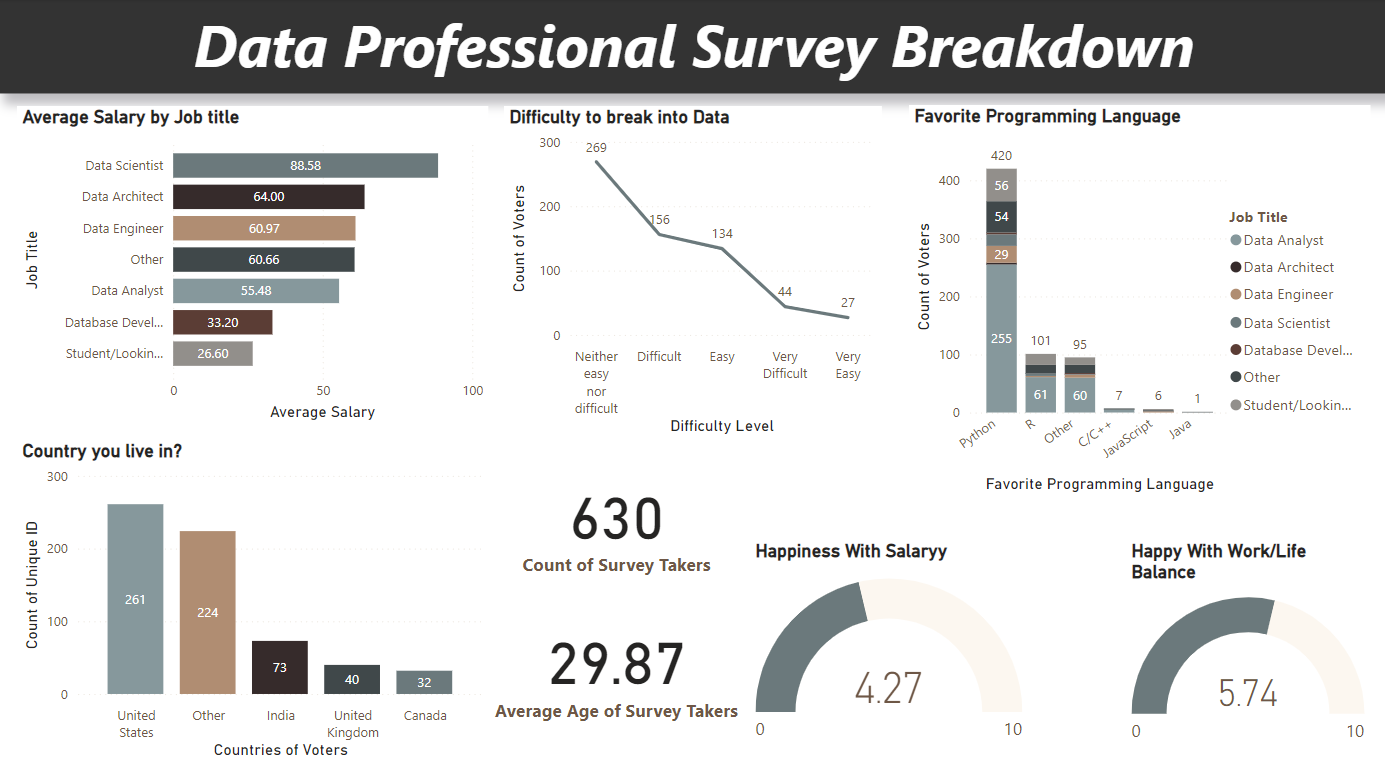

What the dashboard file says about the page in this screenshot:
{"tool":"powerbi","page":{"name":"Page 1","canvas":[1280,720],"ordinal":0},"visuals":[{"type":"textbox","box":[0,0,1280.3,86.8],"z":0},{"type":"card","fields":{"Values":["Count(Data Professional Survey.Unique ID)"]},"box":[450.3,407,236.7,149.2],"z":1000},{"type":"card","fields":{"Values":["Avg(Data Professional Survey.Q10 - Current Age)"]},"box":[450.6,542.8,236.4,147.2],"z":2000},{"type":"barChart","title":"Average Salary by Job title","fields":{"Category":["Data Professional Survey.Q1 - Which Title Best Fits your Current Role?.1"],"Y":["Avg(Data Professional Survey.Average Salary)"],"Series":["Data Professional Survey.Q1 - Which Title Best Fits your Current Role?.1"]},"box":[16.4,98.1,434.2,294.4],"z":3000},{"type":"columnChart","title":"Favorite Programming Language","fields":{"Category":["Data Professional Survey.Q5 - Favorite Programming Language.1"],"Y":["CountNonNull(Data Professional Survey.Unique ID)"],"Series":["Data Professional Survey.Q1 - Which Title Best Fits your Current Role?.1"]},"box":[837.6,97.7,425,362.2],"z":4000},{"type":"columnChart","title":"Country you live in?","fields":{"Category":["Data Professional Survey.Q11 - Which Country do you live in?.1"],"Y":["CountNonNull(Data Professional Survey.Unique ID)"],"Series":["Data Professional Survey.Q11 - Which Country do you live in?.1"]},"box":[16.4,405.9,434.2,298.9],"z":5000},{"type":"gauge","title":"Happy With Work/Life Balance","fields":{"Y":["Avg(Data Professional Survey.Q6 - How Happy are you in your Current Position with the following? (Work/Life Balance))"],"MinValue":["Min(Data Professional Survey.Q6 - How Happy are you in your Current Position with the following? (Work/Life Balance))1"],"MaxValue":["Max(Data Professional Survey.Q6 - How Happy are you in your Current Position with the following? (Work/Life Balance))2"]},"box":[1037.9,498.1,224.5,206.7],"z":6000},{"type":"gauge","title":"Happiness With Salaryy","fields":{"Y":["Avg(Data Professional Survey.Q6 - How Happy are you in your Current Position with the following? (Salary))"],"MinValue":["Min(Data Professional Survey.Q6 - How Happy are you in your Current Position with the following? (Salary))1"],"MaxValue":["Max(Data Professional Survey.Q6 - How Happy are you in your Current Position with the following? (Salary))2"]},"box":[691.5,498.1,255.8,206.7],"z":7000},{"type":"lineChart","title":"Difficulty to break into Data","fields":{"Category":["Data Professional Survey.Q7 - How difficult was it for you to break into Data?"],"Y":["CountNonNull(Data Professional Survey.Q7 - How difficult was it for you to break into Data?)"]},"box":[465.4,98.1,348,307.8],"z":7001}]}

Visuals, with their boxes in screenshot pixels (x1, y1, x2, y2), scaled from the page's 1280x720 canvas onto the 1385x779 screenshot:
textbox: box(0, 0, 1384, 94)
card - Count(Data Professional Survey.Unique ID): box(487, 440, 743, 602)
card - Avg(Data Professional Survey.Q10 - Current Age): box(488, 587, 743, 747)
"Average Salary by Job title" barChart: box(18, 106, 488, 425)
"Favorite Programming Language" columnChart: box(906, 106, 1366, 498)
"Country you live in?" columnChart: box(18, 439, 488, 763)
"Happy With Work/Life Balance" gauge: box(1123, 539, 1366, 763)
"Happiness With Salaryy" gauge: box(748, 539, 1025, 763)
"Difficulty to break into Data" lineChart: box(504, 106, 880, 439)
